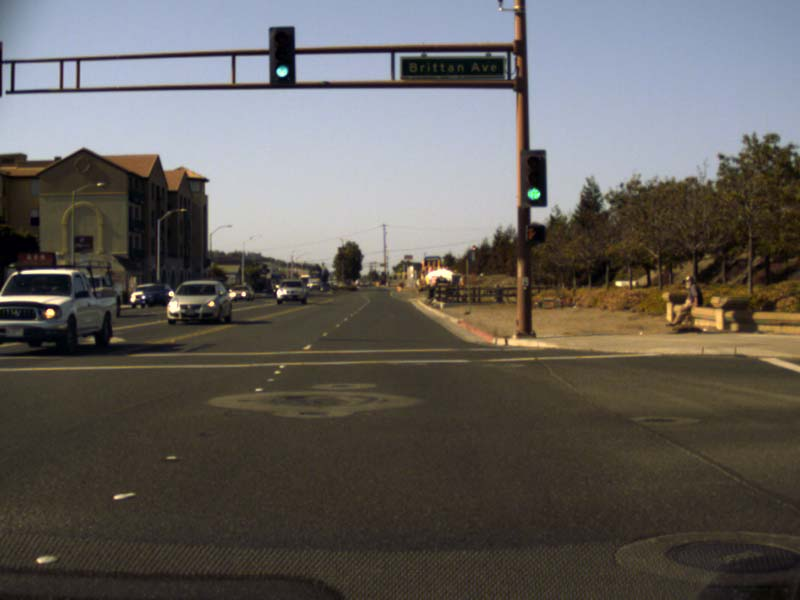Green: (519, 149, 546, 207), (268, 27, 294, 86)
